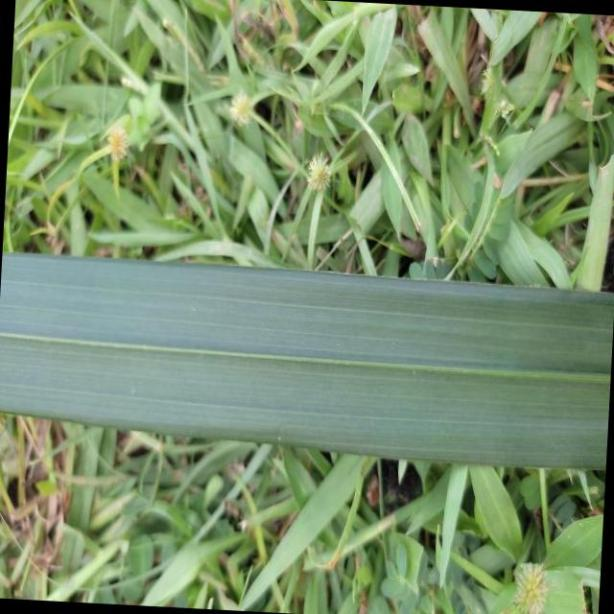Healthy: (3, 251, 614, 469)
